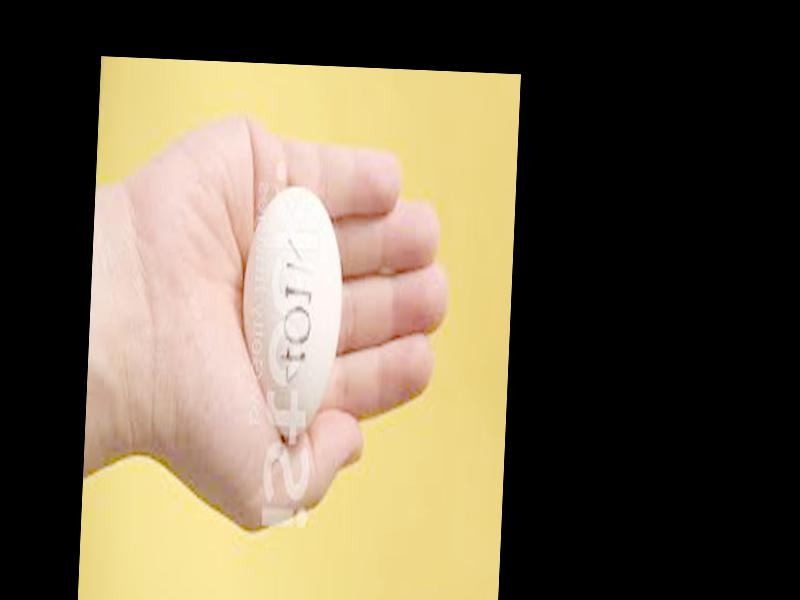Eggs: (238, 184, 345, 439)
